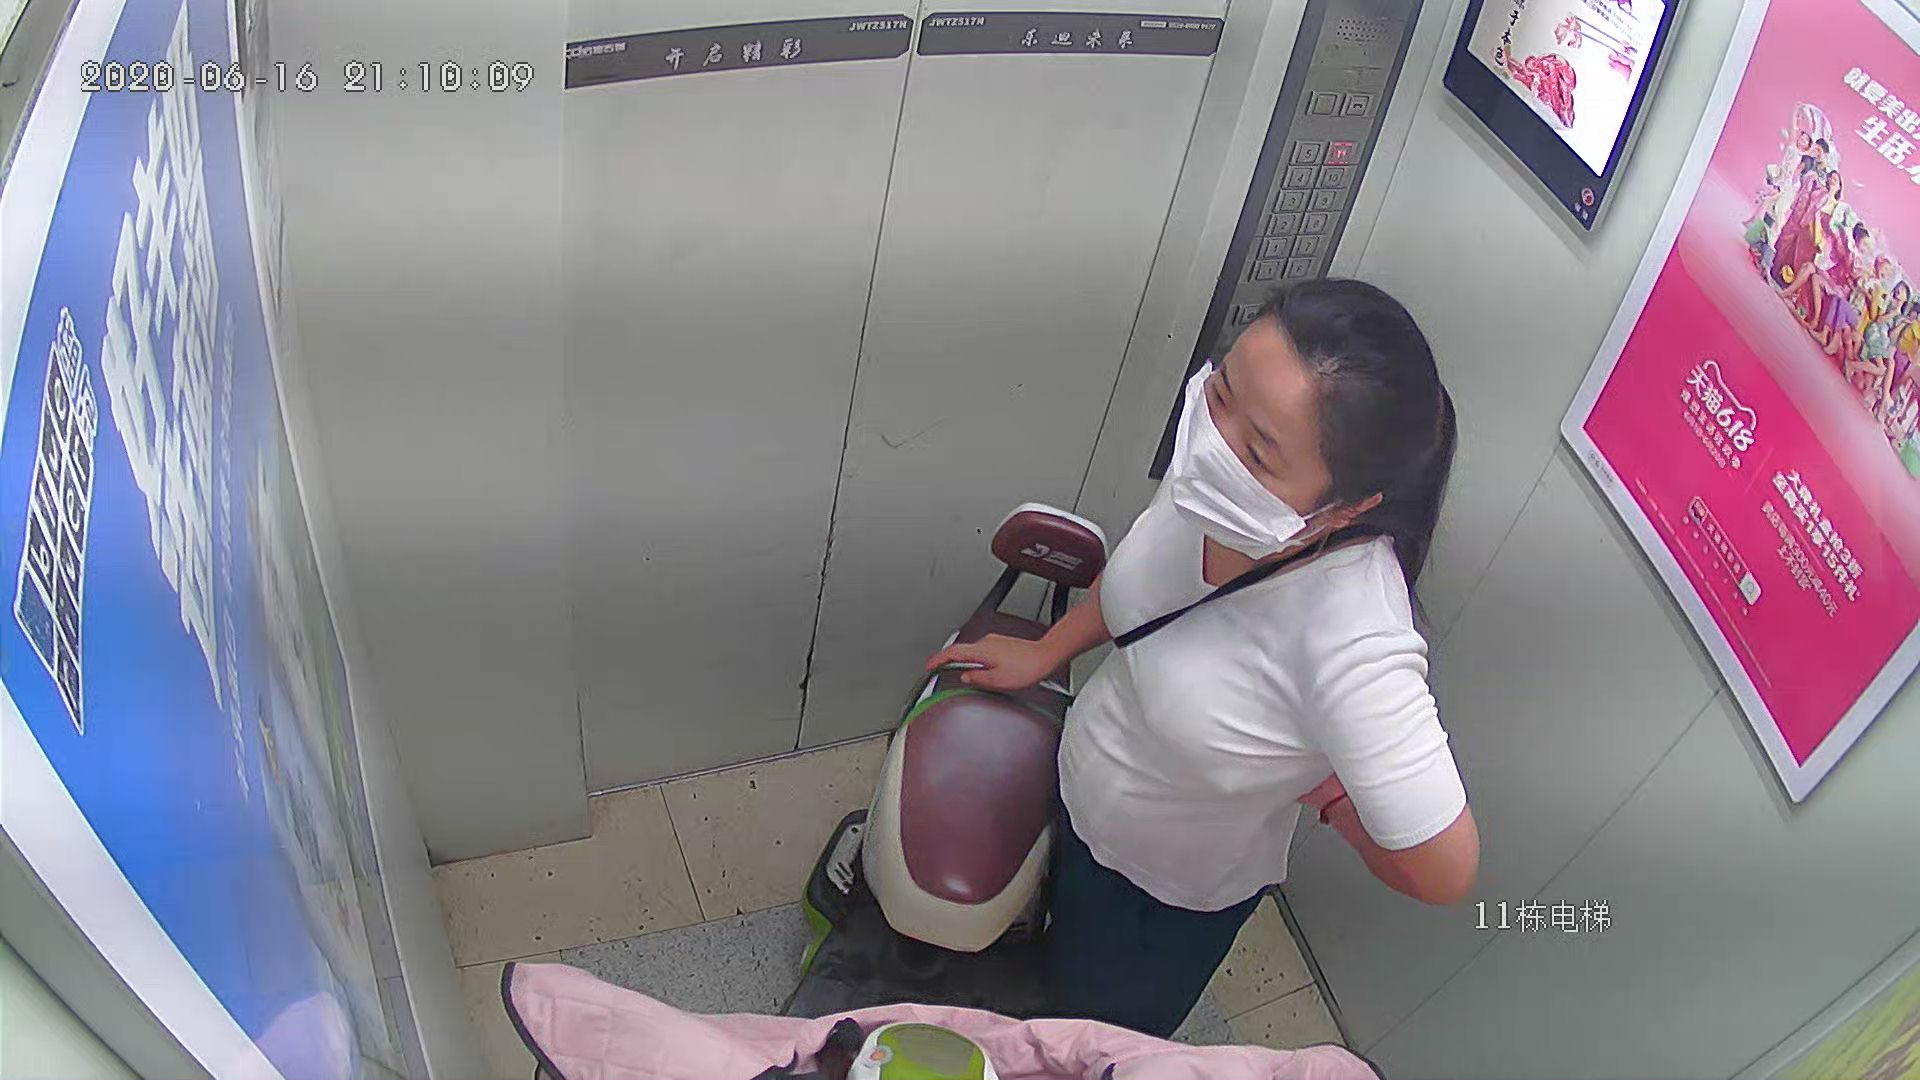Electric-bicycle: (762, 491, 1106, 1080)
